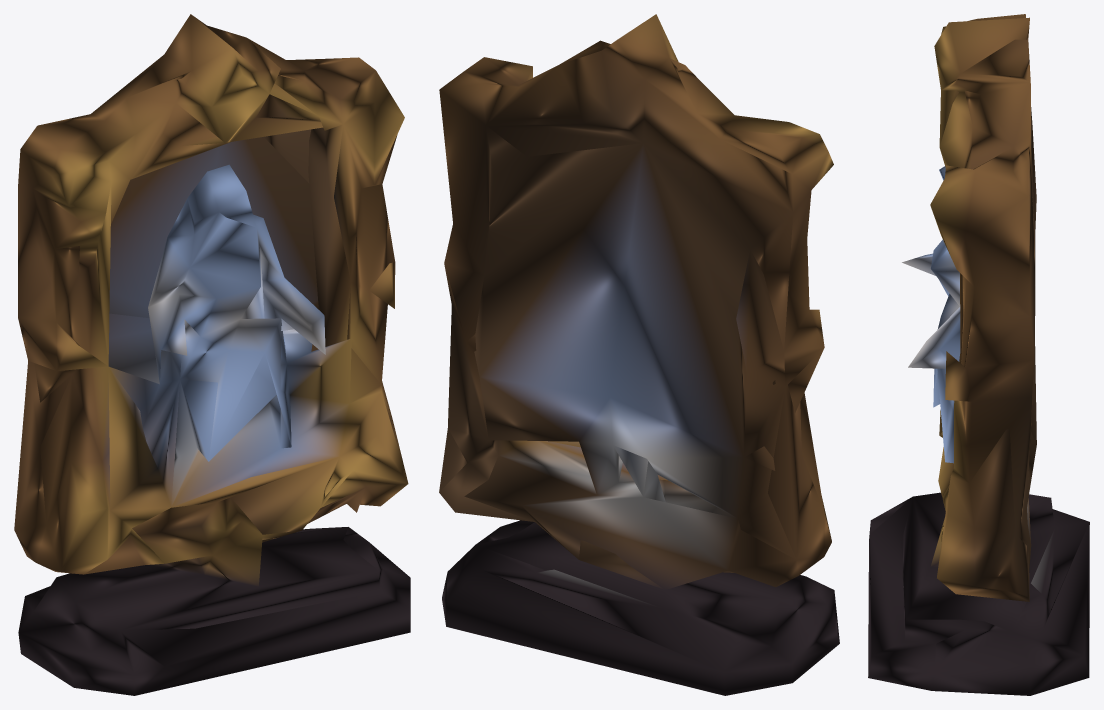
File: gen3d-haunted-portrait-lod1.glb
3 renders of one model, left to right at view 1: azimuth 30°, elevation 25°; view 2: azimuth 150°, elevation 25°; view 3: azimuth 270°, elevation 25°, orthographic.
Visible parts, largest first — view 1: part_0; view 2: part_0; view 3: part_0.
Part boxes in pixels (x1,y1,x2,y2): part_0: (14, 14, 410, 695); part_0: (439, 14, 839, 695); part_0: (868, 14, 1089, 695).
Size of the model in its own units: 0.6321 by 0.9965 by 0.3361.
